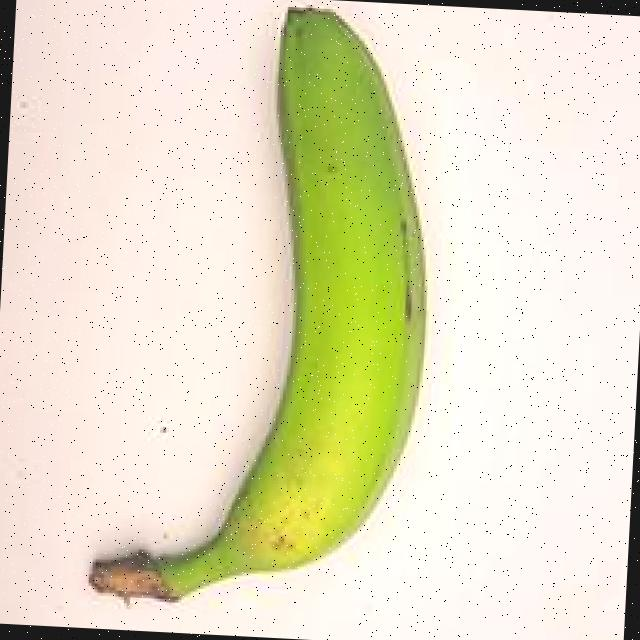Unripe: (53, 0, 505, 636)
